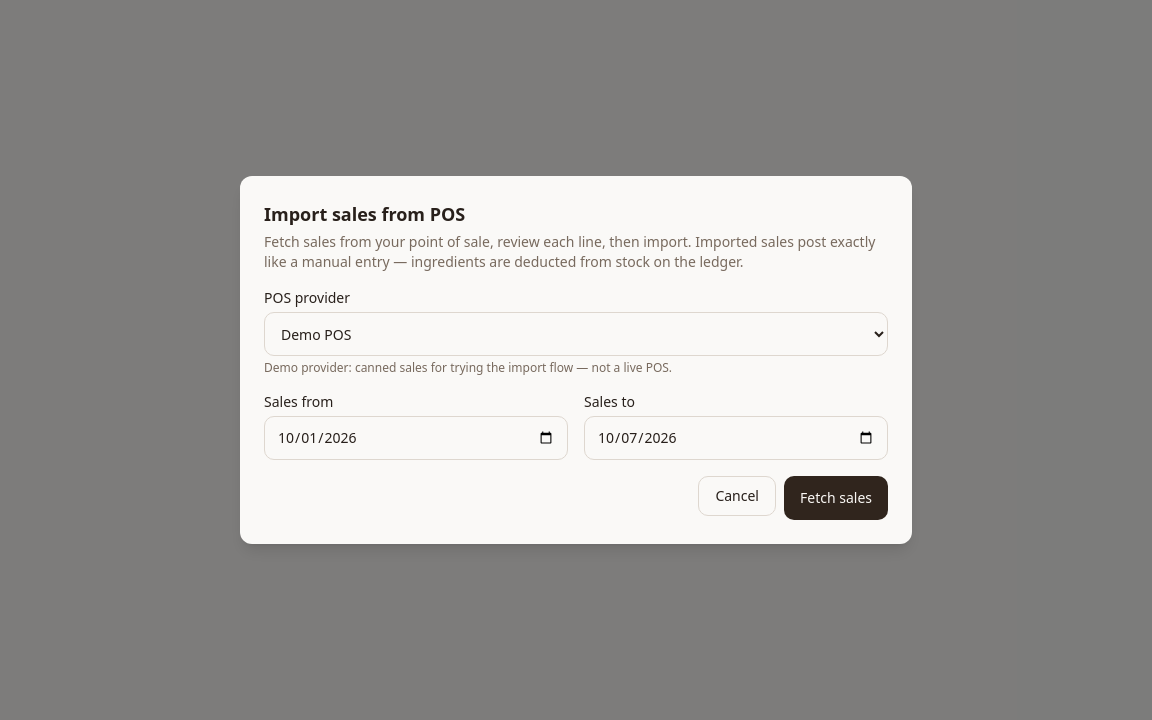
Test case: PosImportDialog › validates the date range before fetching
Type "2026-10-10" into the date field labelled "Sales from" at [416, 438], box [264,416,568,460]
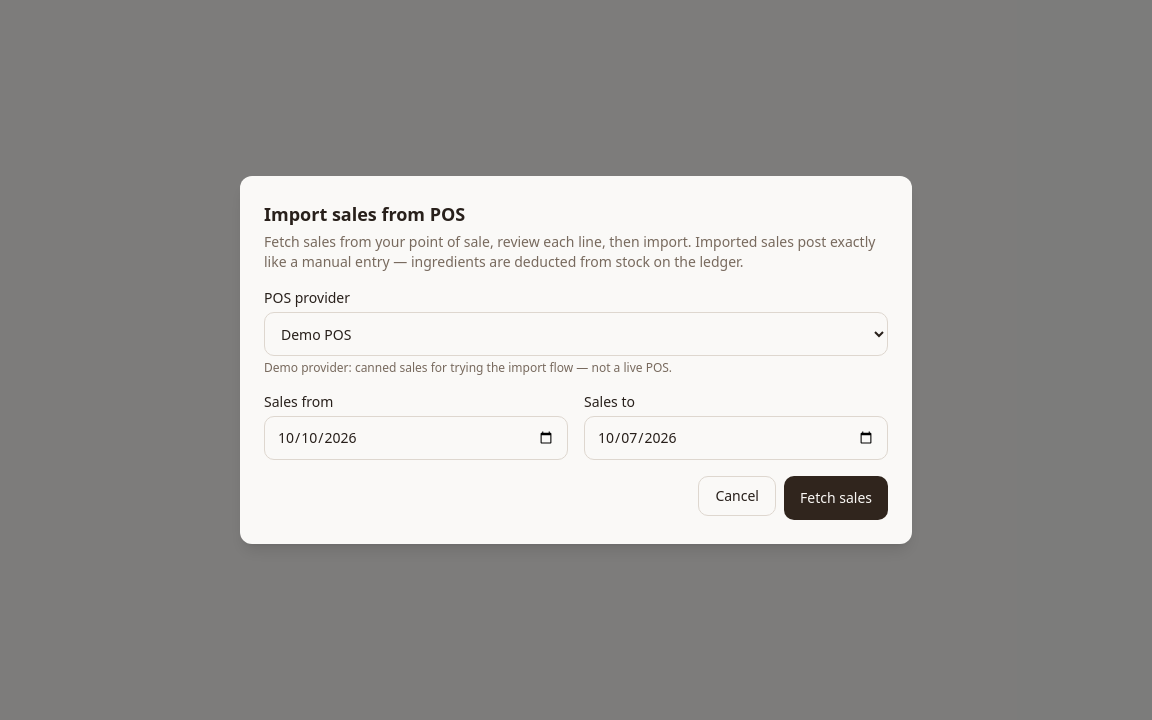
Type "2026-10-05" into the date field labelled "Sales to" at [736, 438], box [584,416,888,460]
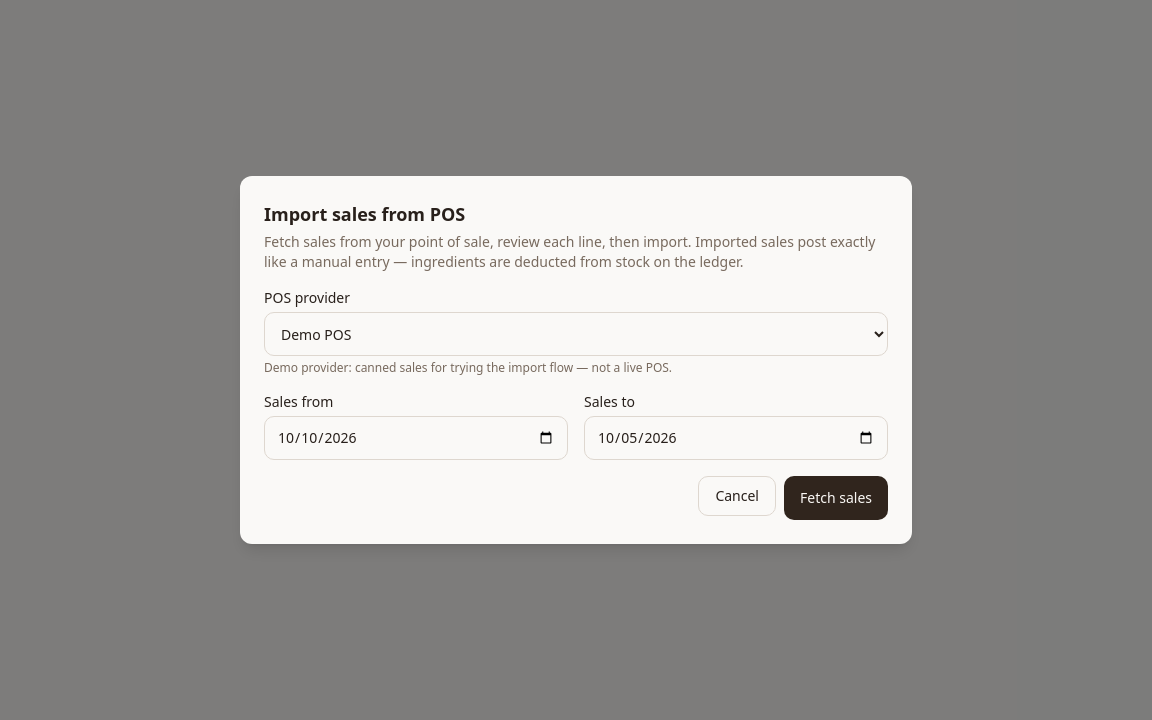
Click the button with test id "pos-fetch-button" at [836, 498], box [784,476,888,520]
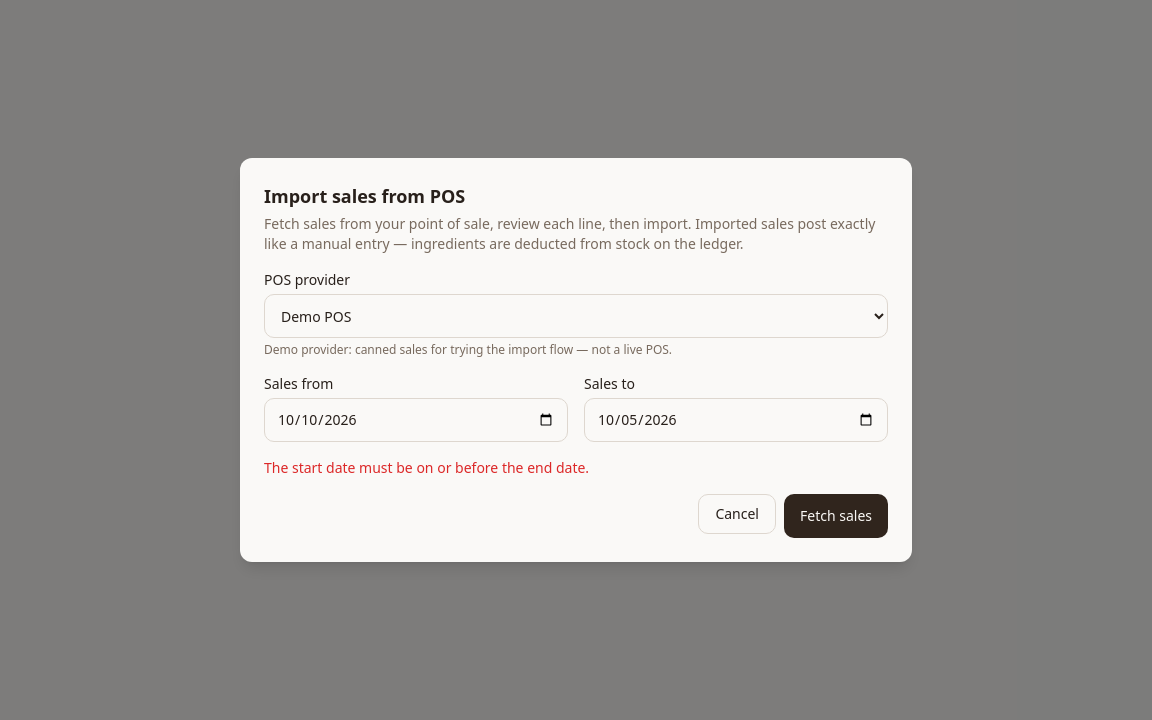
Expected: the text "The start date must be on or before the end date." is shown, [264,458,589,477]
